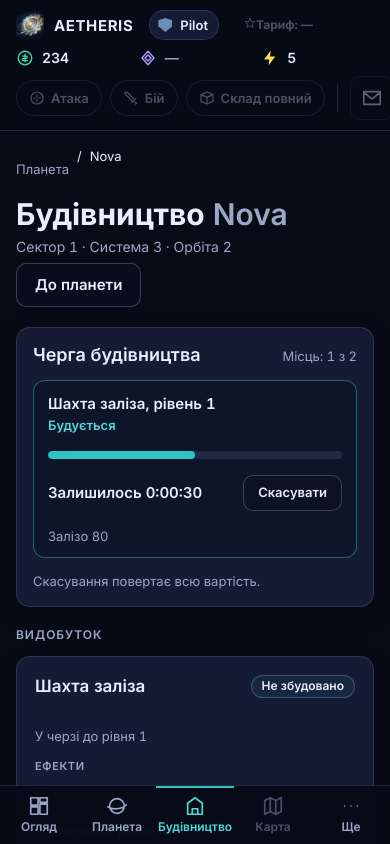
Test: the menu, the tabs of the phone and the bottom bar of the design (task 00020, section 7.8) › opens every section of the menu on the phone through the tab "More" and marks the current tab
expect the navigation bar with class "civ-tabbar" is shown: met, box [0,785,389,843]
expect the link "Будівництво" is shown: met, box [156,786,234,843]
Step 1. Click the button "Ще" → (351, 815), box [312,786,389,843]
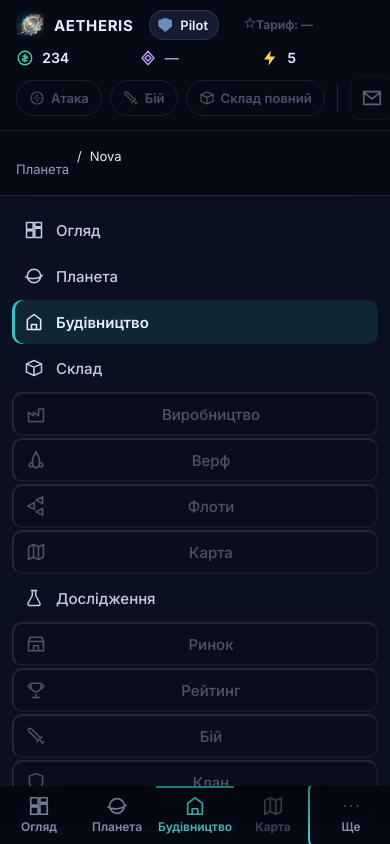
expect the 1st link "Будівництво" is shown: met, box [12,300,378,344]
